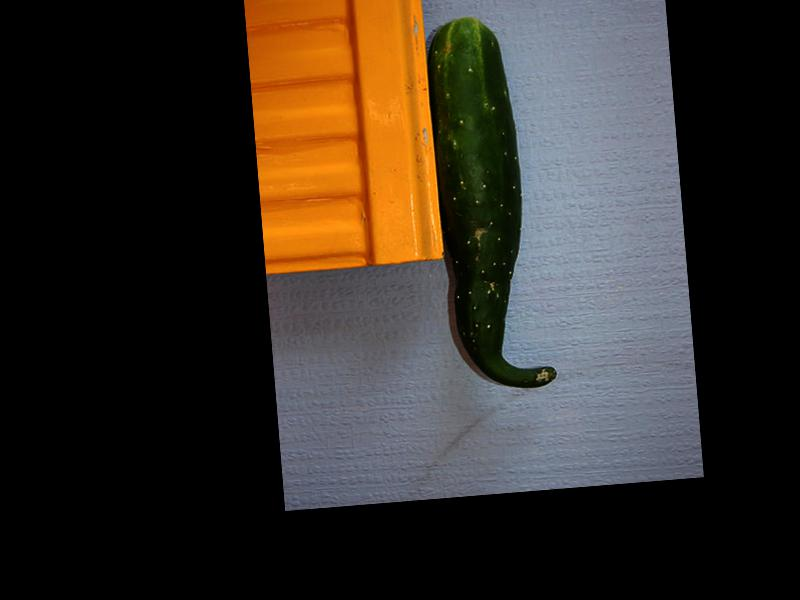Cucumber: (423, 15, 558, 395)
